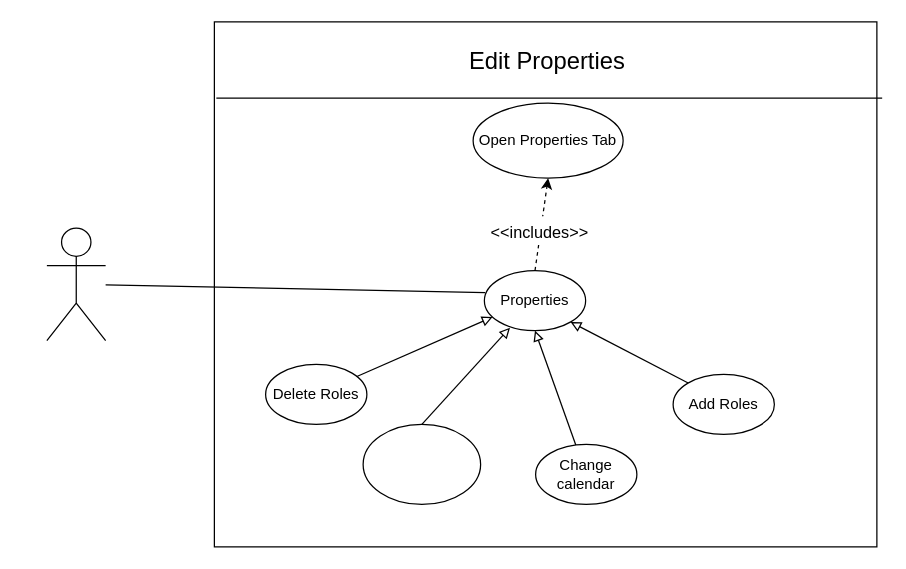
Image size: 906x569. Some labels were removed from this diagram. The shapes that lost their labels are listed below. From the top down, each one's centre as x and y in pixels, then its label:
At point (76, 284): "Project Manager".
At point (421, 463): "Change name and description".
